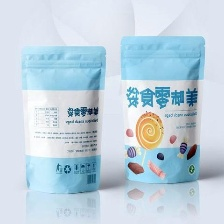snack: (16, 40, 112, 199), (116, 30, 212, 189)
